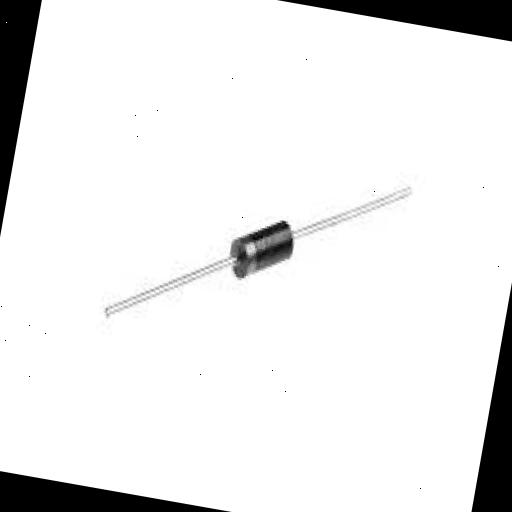DIODE: (100, 132, 412, 366)
